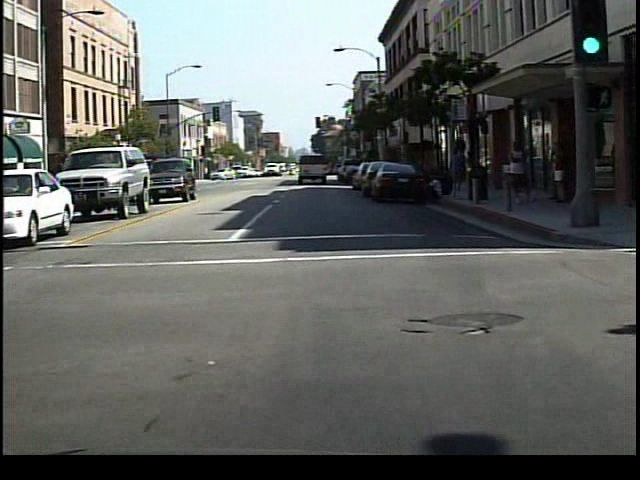person: (502, 136, 538, 214), (445, 142, 468, 200)
